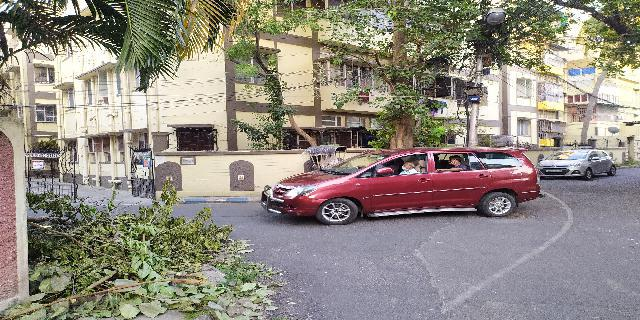Car: (254, 142, 538, 215), (534, 148, 618, 179)
